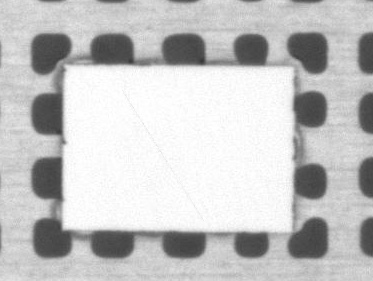DIE_CRACK: (162, 68, 269, 166)
